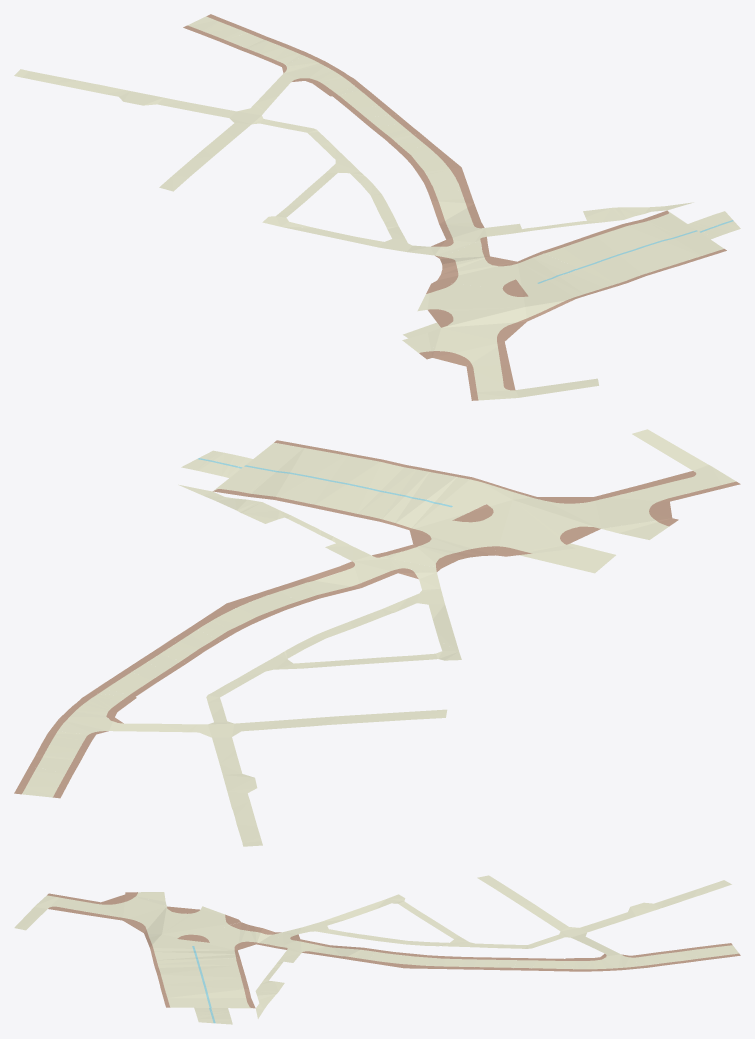
The model's file is data48.glb.
The picture shows the model from 3 angles, top to bottom: view 1: azimuth 30°, elevation 25°; view 2: azimuth 150°, elevation 25°; view 3: azimuth 270°, elevation 25°; orthographic projection. The views are drawn at different scales.
Size of the model in its own units: 162 by 10.41 by 332.
